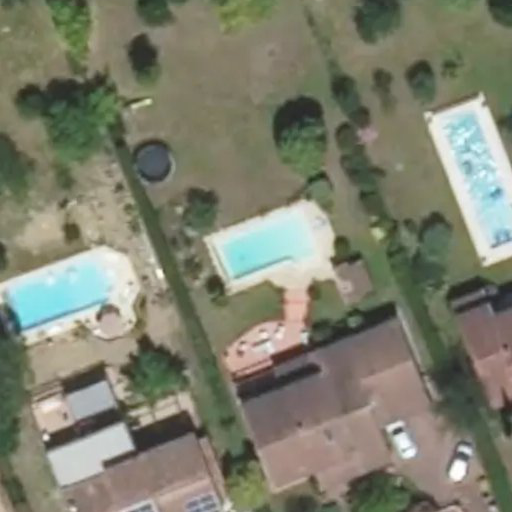pool: (201, 238, 310, 258)
